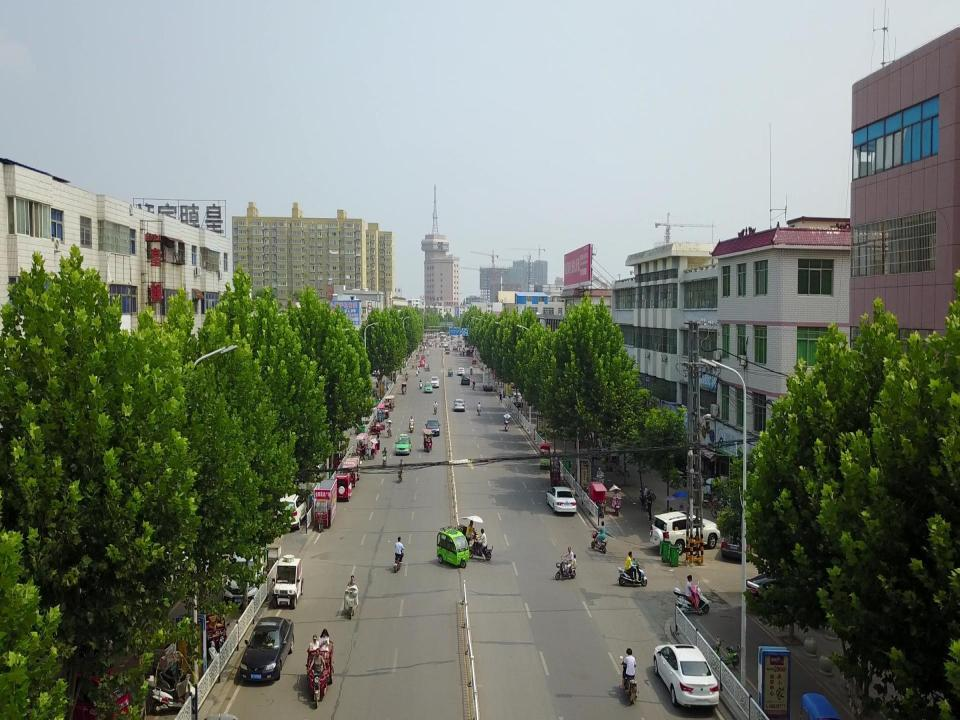car: (652, 643, 720, 710), (237, 615, 296, 683), (742, 568, 822, 615), (648, 509, 722, 554), (221, 543, 265, 606), (720, 502, 762, 564), (271, 554, 305, 610), (275, 487, 313, 531), (546, 486, 577, 514), (335, 472, 353, 502), (394, 433, 412, 456), (424, 418, 442, 437), (509, 392, 523, 407), (371, 362, 385, 376), (452, 399, 466, 412), (429, 376, 440, 389), (423, 382, 433, 393), (461, 374, 470, 386), (456, 367, 466, 376), (419, 360, 425, 368)
truck: (481, 372, 493, 391)
